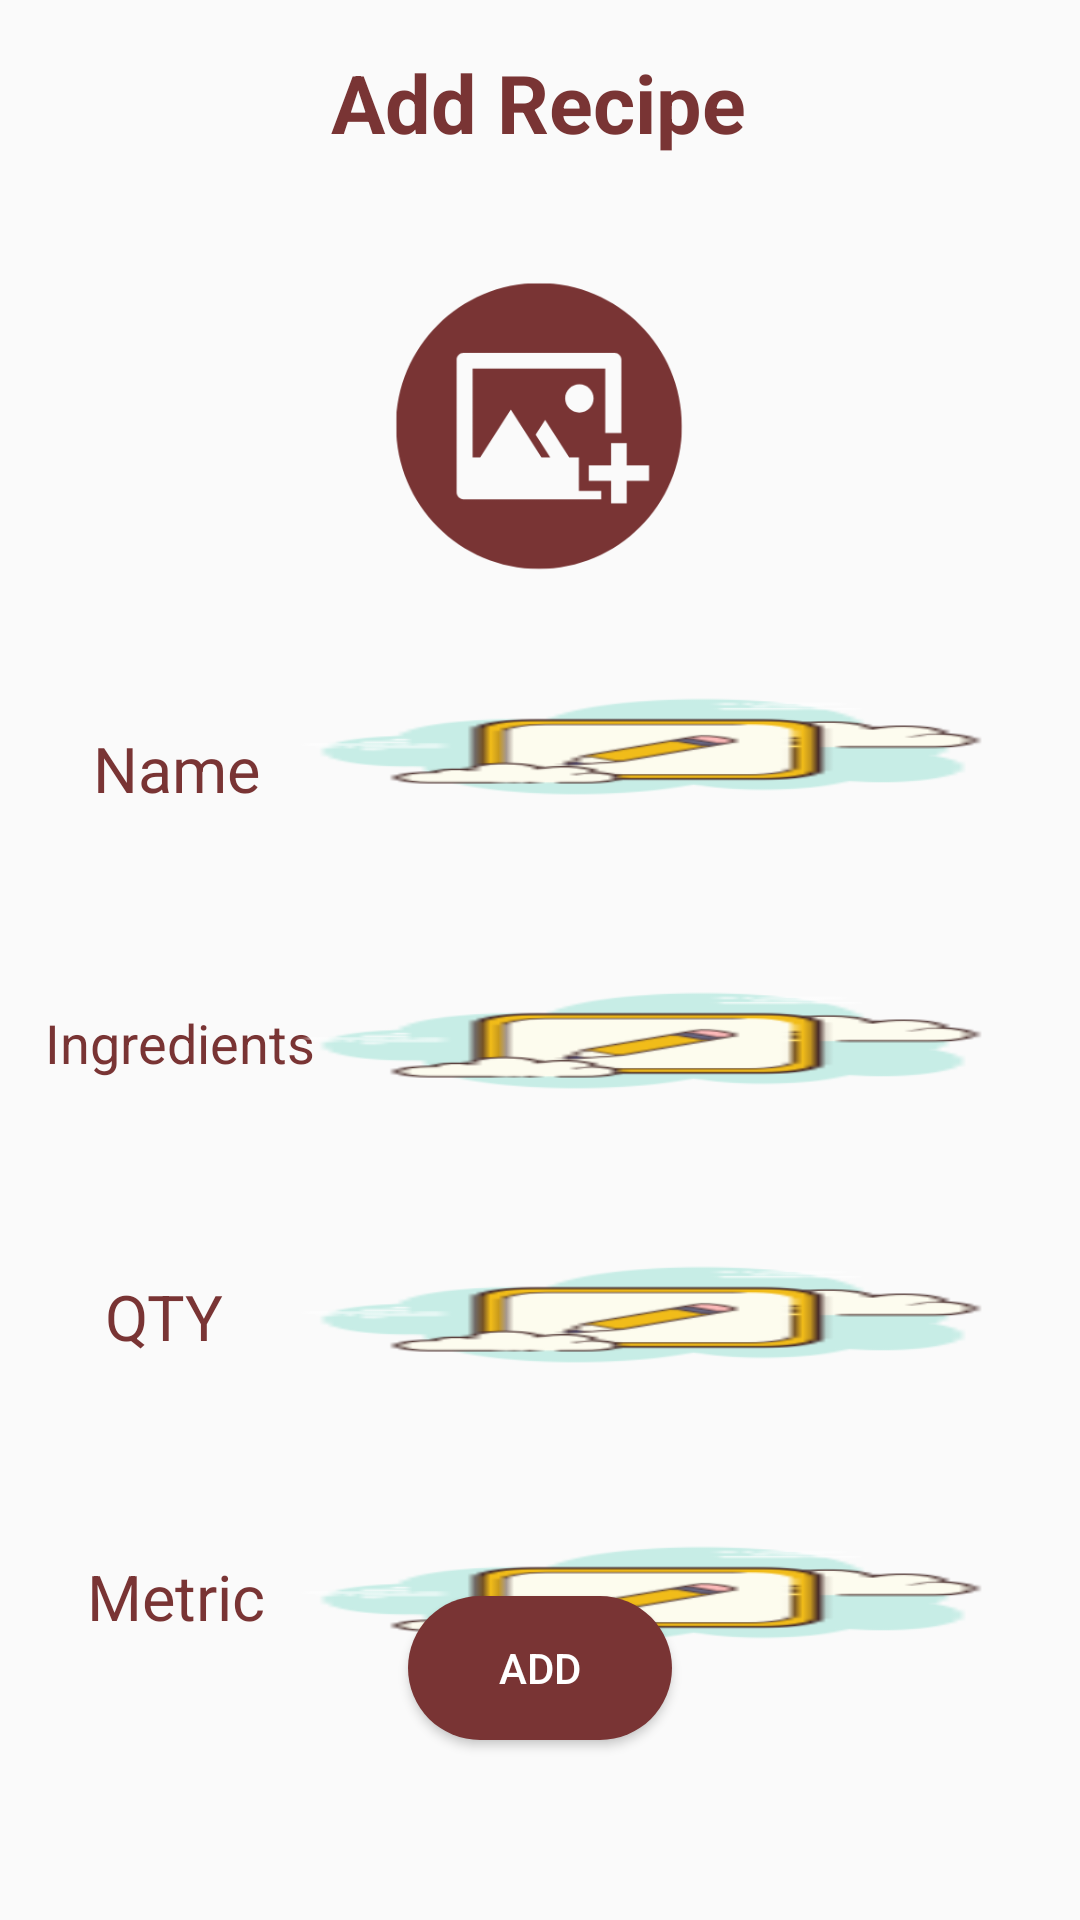

Where icons sit on this 1080 × 1920 app screen, as (x1, y1, x2, y2):
ivprofile: (396, 283, 682, 569)
